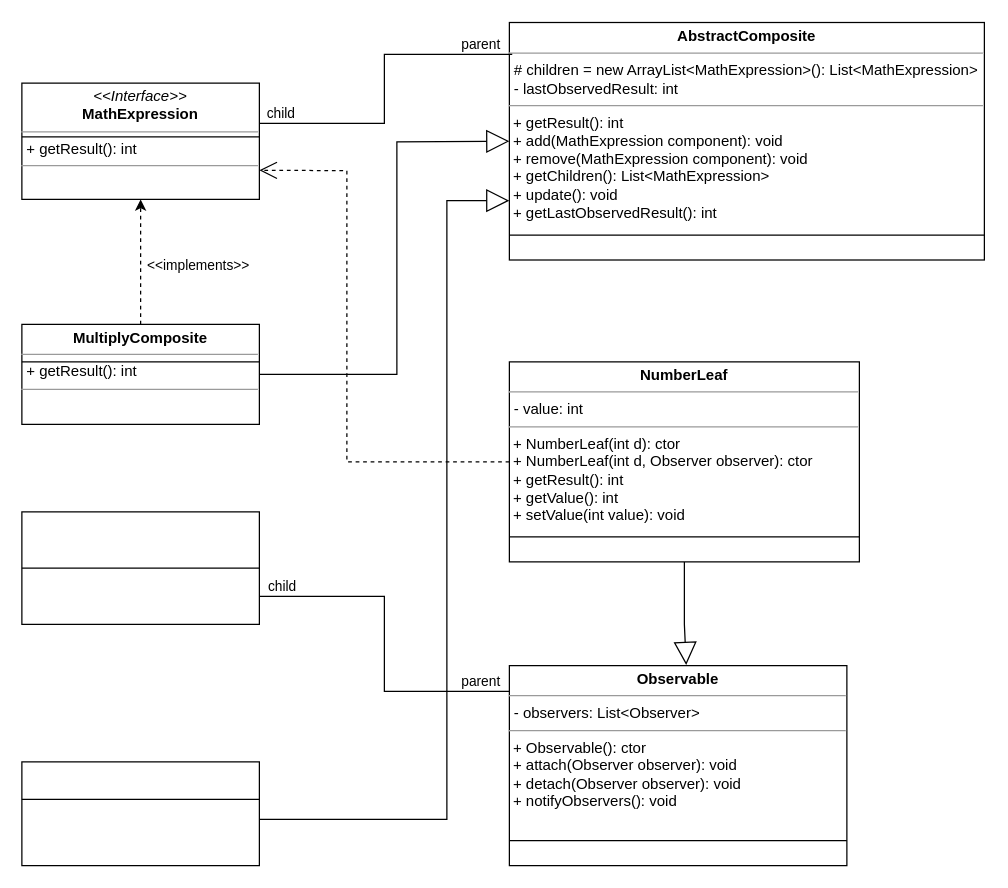
Image size: 1008x888. Some labels were removed from this diagram. The shapes that lost their labels are listed below. From the top down, each one's centre as x and y in pixels, then its label:
the point at 140,567: <<Interface>> Observer ~ update(): void
the point at 140,813: PlusComposite + getResult(): int
